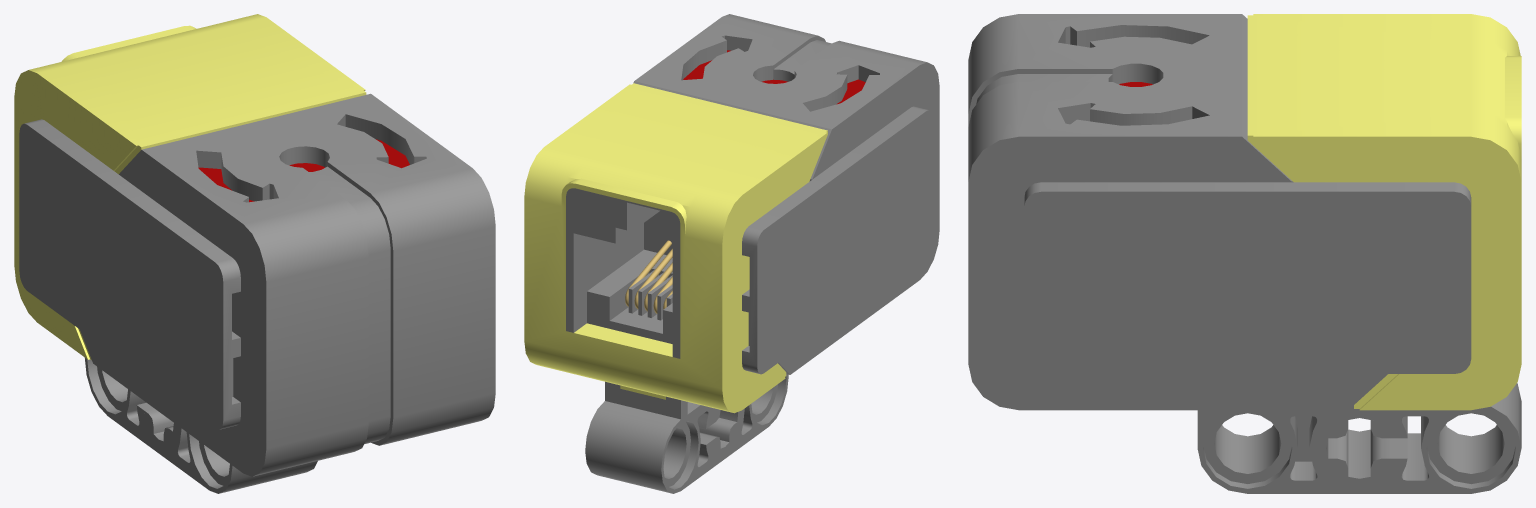
The picture shows the model from 3 angles, left to right: view 1: azimuth 30°, elevation 25°; view 2: azimuth 150°, elevation 25°; view 3: azimuth 270°, elevation 25°; orthographic projection. The views are drawn at different scales.
Parts seen in each view (by area): view 1: 99397.dat, 99377p01.dat, 99376.dat; view 2: 99376.dat, 99377p01.dat, 99397.dat, 54732b.dat; view 3: 99377p01.dat, 99397.dat, 99376.dat.
Boxes of the visible parts, box(x1,y1,x2,y2) form: 99397.dat: box(80, 93, 495, 476); 99377p01.dat: box(19, 119, 409, 493); 99376.dat: box(14, 14, 366, 359); 99376.dat: box(524, 83, 827, 413); 99377p01.dat: box(585, 50, 932, 493); 99397.dat: box(633, 14, 939, 374); 54732b.dat: box(566, 188, 680, 358); 99377p01.dat: box(1024, 82, 1521, 493); 99397.dat: box(968, 14, 1387, 410); 99376.dat: box(1247, 14, 1521, 410).
Size of the model in its own units: 0.024 by 0.0312 by 0.0396.
